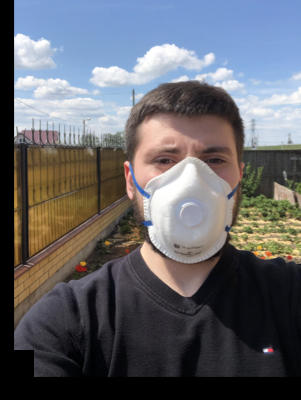with_mask: (138, 135, 240, 264)
